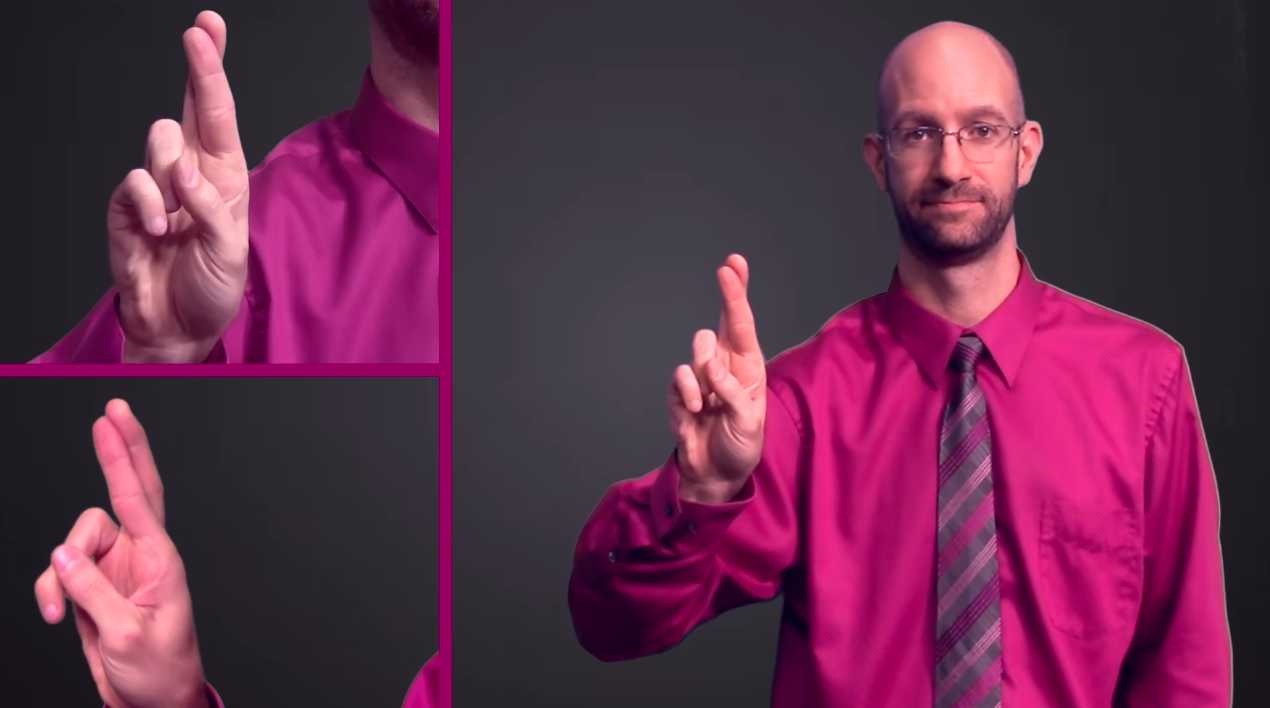r: (85, 3, 272, 360), (22, 383, 219, 706), (656, 244, 785, 508)
